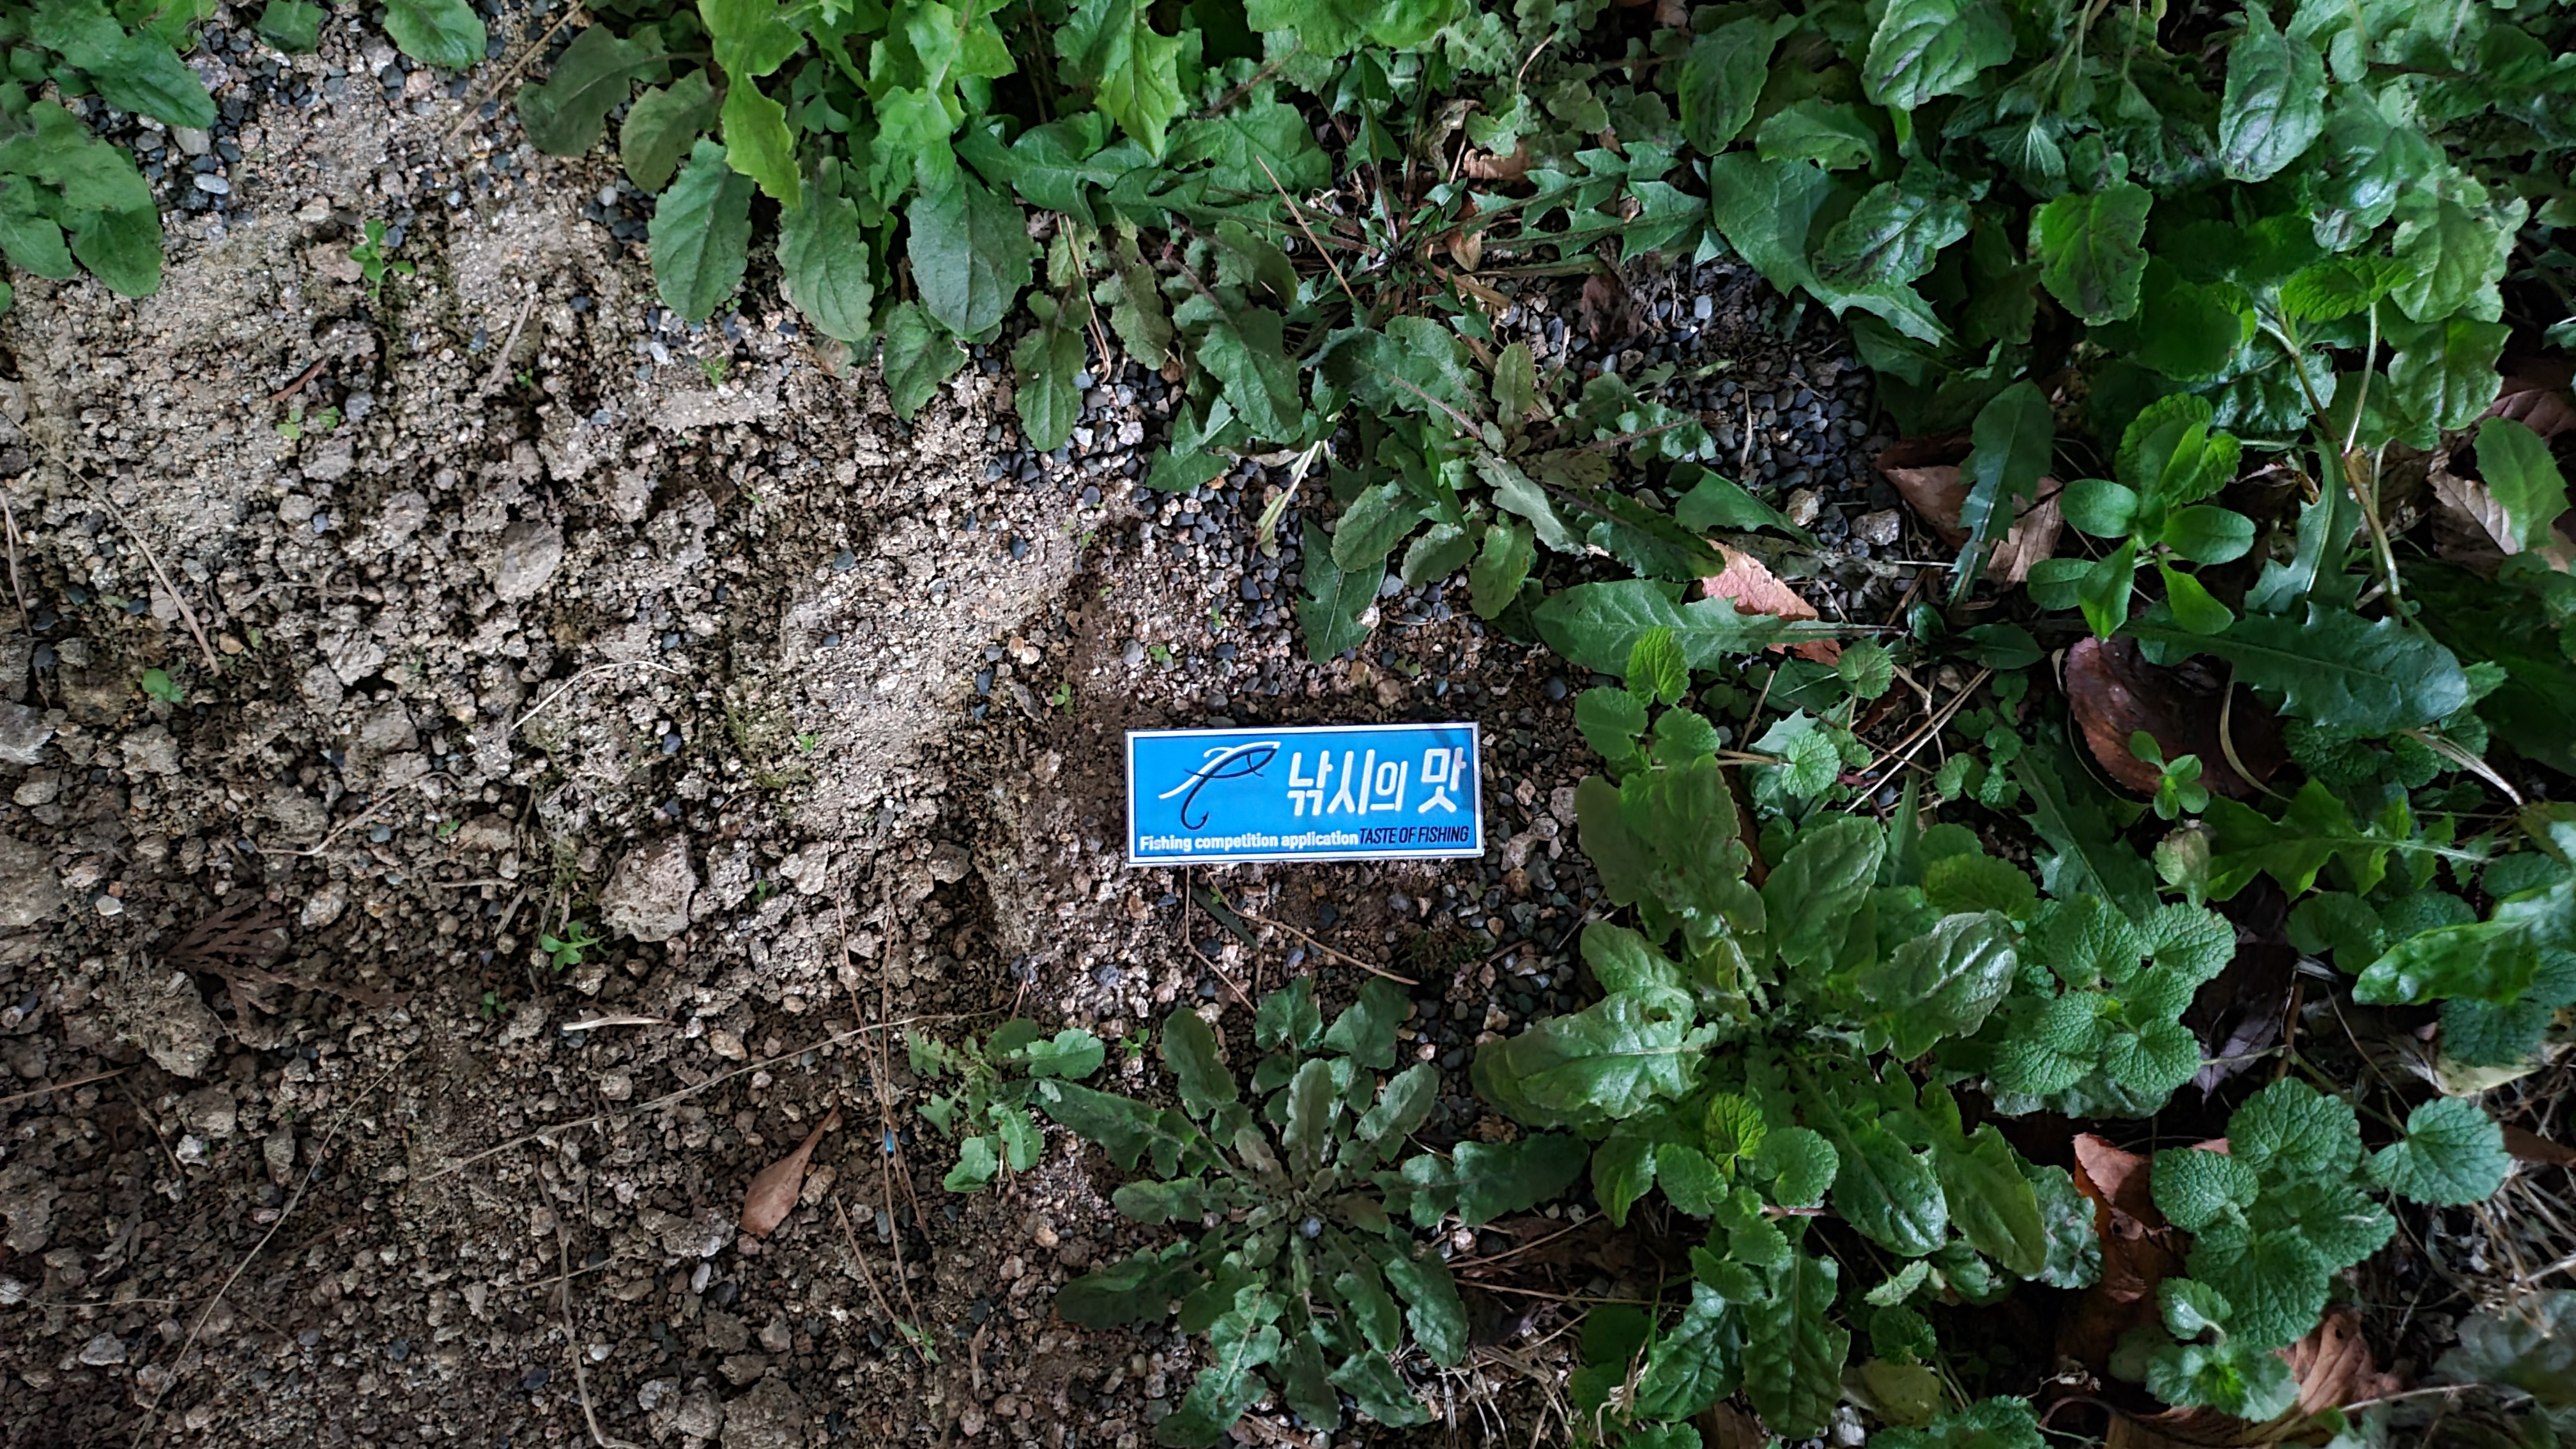tag: (1127, 720, 1488, 865)
